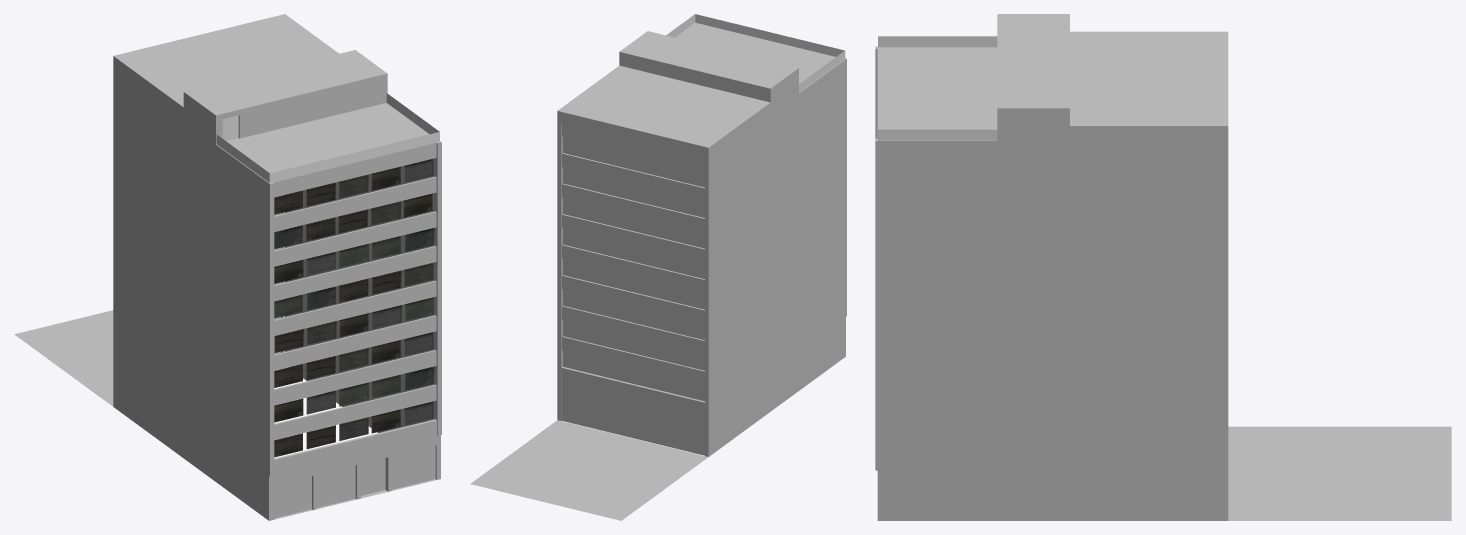
3 views of the same model, side by side, from view 1: azimuth 30°, elevation 25°; view 2: azimuth 150°, elevation 25°; view 3: azimuth 270°, elevation 25° (orthographic). The views are drawn at different scales.
Visible parts, largest first — view 1: BB-008; view 2: BB-008; view 3: BB-008.
Boxes of the visible parts, bbox=[...] form: BB-008: bbox=[14, 14, 441, 520]; BB-008: bbox=[470, 14, 846, 520]; BB-008: bbox=[875, 14, 1451, 520].
Size of what is drawn, in the model's own units: 14 by 28.55 by 36.14.
